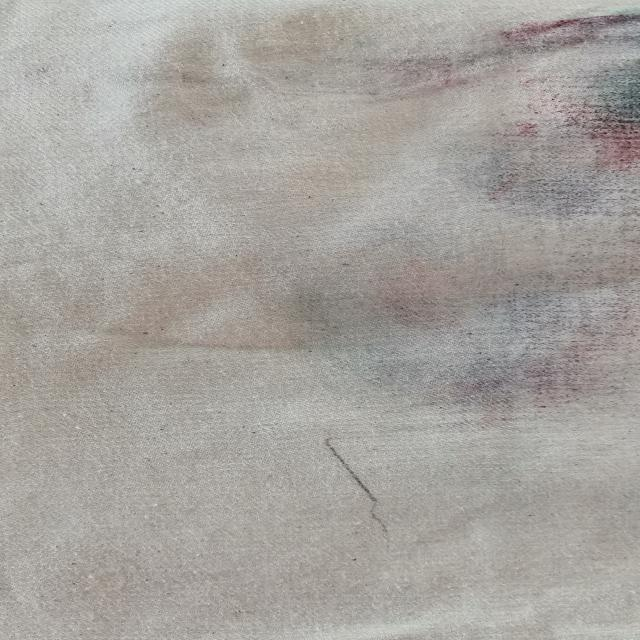taaaches: (171, 0, 640, 419), (298, 426, 410, 560)
